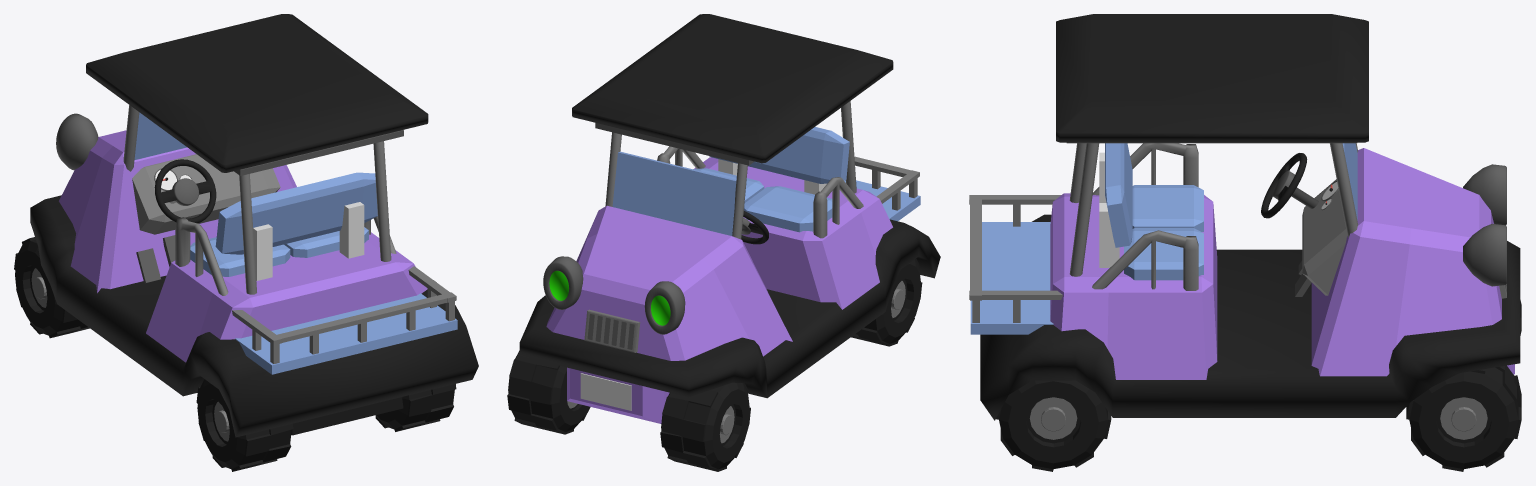
Rendered from GolfCart 1.fbx.
3 renders of one model, left to right at view 1: azimuth 30°, elevation 25°; view 2: azimuth 150°, elevation 25°; view 3: azimuth 270°, elevation 25°, orthographic. The views are drawn at different scales.
Visible parts, largest first — view 1: Cube.016, Cube.007, Cube.008, Cube.012, Cube.011, Cube.017, Cube.028, Cylinder.002, Cylinder, Cylinder.003, Torus, Cube.029 (+15 smaller); view 2: Cube.016, Cube.012, Cube.007, Cube.008, Cube.015, Cylinder, Cylinder.004, Cube.011, Cylinder.002, Cube.009, Cube.032, Cube.031 (+14 smaller); view 3: Cube.016, Cube.007, Cube.012, Cube.008, Cylinder.004, Cylinder.003, Cube.017, Cube.028, Cube.009, Cube.011, Cube.010, Cube.030 (+13 smaller).
Boxes of the visible parts, x1,y1,x2,y2 form: Cube.016: (86, 14, 428, 172); Cube.007: (30, 195, 478, 437); Cube.008: (146, 232, 427, 362); Cube.012: (59, 130, 296, 293); Cube.011: (215, 172, 377, 254); Cube.017: (235, 293, 457, 374); Cube.028: (132, 154, 280, 234); Cylinder.002: (196, 379, 293, 471); Cylinder: (14, 237, 89, 338); Cylinder.003: (375, 384, 456, 431); Torus: (154, 159, 216, 223); Cube.029: (175, 217, 228, 295); Cube.016: (572, 14, 893, 163); Cube.012: (546, 205, 792, 360); Cube.007: (519, 219, 940, 398); Cube.008: (694, 157, 892, 309); Cube.015: (612, 151, 736, 235); Cylinder: (660, 382, 750, 471); Cylinder.004: (507, 350, 590, 434); Cube.011: (709, 127, 849, 183); Cylinder.002: (851, 258, 922, 346); Cube.009: (744, 186, 832, 232); Cube.032: (567, 367, 669, 423); Cube.031: (584, 309, 640, 352); Cube.016: (1056, 14, 1368, 142); Cube.007: (980, 214, 1520, 420); Cube.012: (1311, 148, 1501, 376); Cube.008: (1050, 193, 1217, 379); Cylinder.004: (1406, 365, 1521, 471); Cylinder.003: (996, 380, 1111, 471); Cube.017: (970, 222, 1053, 334); Cube.028: (1302, 179, 1347, 295); Cube.009: (1132, 185, 1203, 231); Cube.011: (1105, 143, 1132, 247); Cube.010: (1124, 228, 1203, 280); Cube.030: (1092, 230, 1198, 290).
Bounding box in the file's own units: 62.14 × 79.54 × 111.
